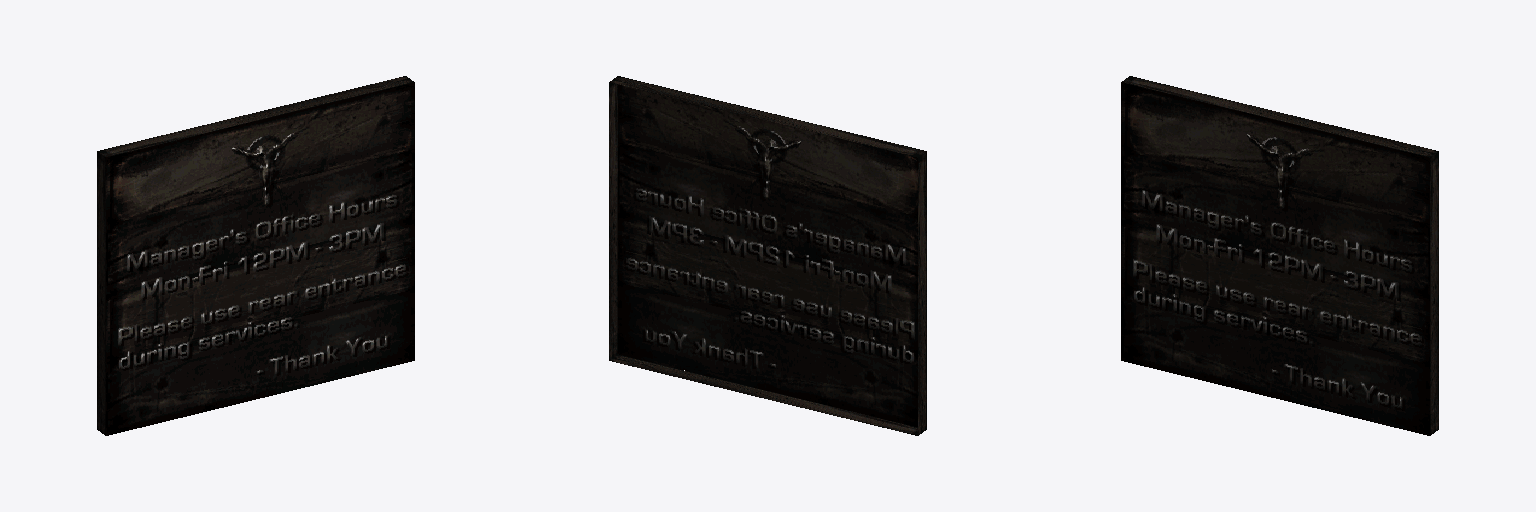
3 renders of one model, left to right at view 1: azimuth 30°, elevation 25°; view 2: azimuth 150°, elevation 25°; view 3: azimuth 330°, elevation 25°, orthographic.
Parts seen in each view (by area): view 1: PChurchSgnr01-00.PChurchSgnr01-00_PChurchSgnr01-00; view 2: PChurchSgnr01-00.PChurchSgnr01-00_PChurchSgnr01-00; view 3: PChurchSgnr01-00.PChurchSgnr01-00_PChurchSgnr01-00.
Boxes of the visible parts, x1=… form: PChurchSgnr01-00.PChurchSgnr01-00_PChurchSgnr01-00: x1=97, y1=76, x2=414, y2=435; PChurchSgnr01-00.PChurchSgnr01-00_PChurchSgnr01-00: x1=609, y1=76, x2=926, y2=435; PChurchSgnr01-00.PChurchSgnr01-00_PChurchSgnr01-00: x1=1121, y1=76, x2=1438, y2=435.
Bounding box in the file's own units: 2 × 1.72 × 0.1.
Materials: 2 (2 with a texture image).